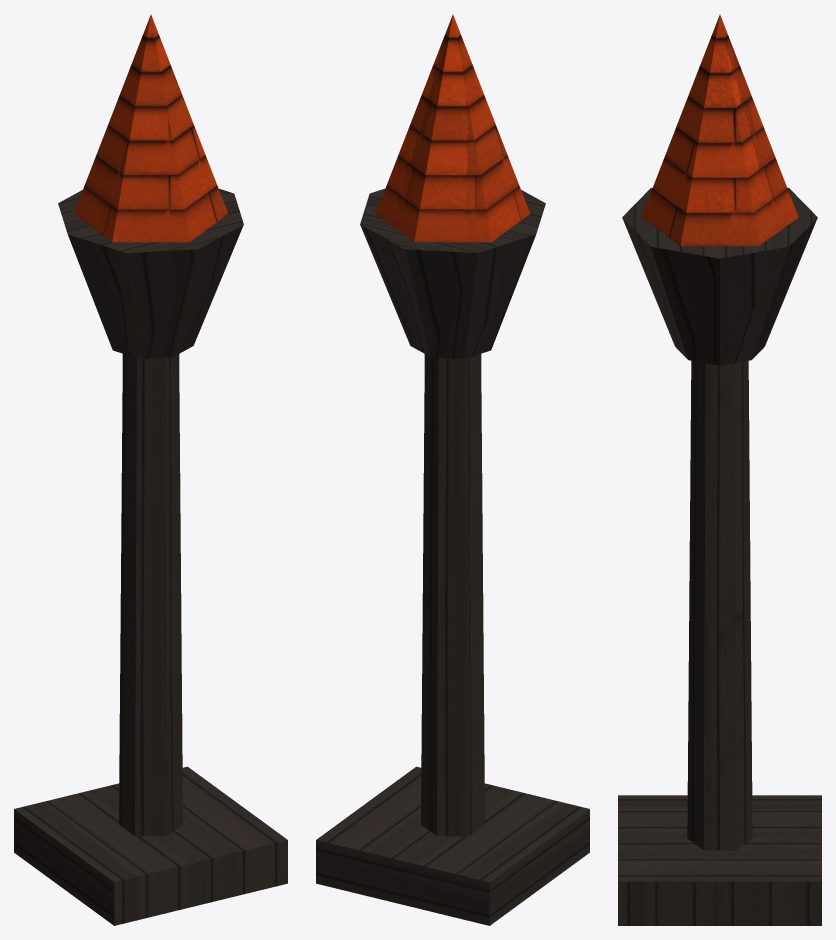
Rendered from torch_stand_01.glb.
3 renders of one model, left to right at view 1: azimuth 30°, elevation 25°; view 2: azimuth 150°, elevation 25°; view 3: azimuth 270°, elevation 25°, orthographic.
Visible parts, largest first — view 1: torch_stand_01; view 2: torch_stand_01; view 3: torch_stand_01.
Boxes of the visible parts, x1,y1,x2,y2 form: torch_stand_01: (14, 14, 287, 925); torch_stand_01: (316, 14, 589, 925); torch_stand_01: (618, 14, 821, 925).
Size of the model in its own units: 0.5 by 2.35 by 0.5.
2 materials, 2 textured.
